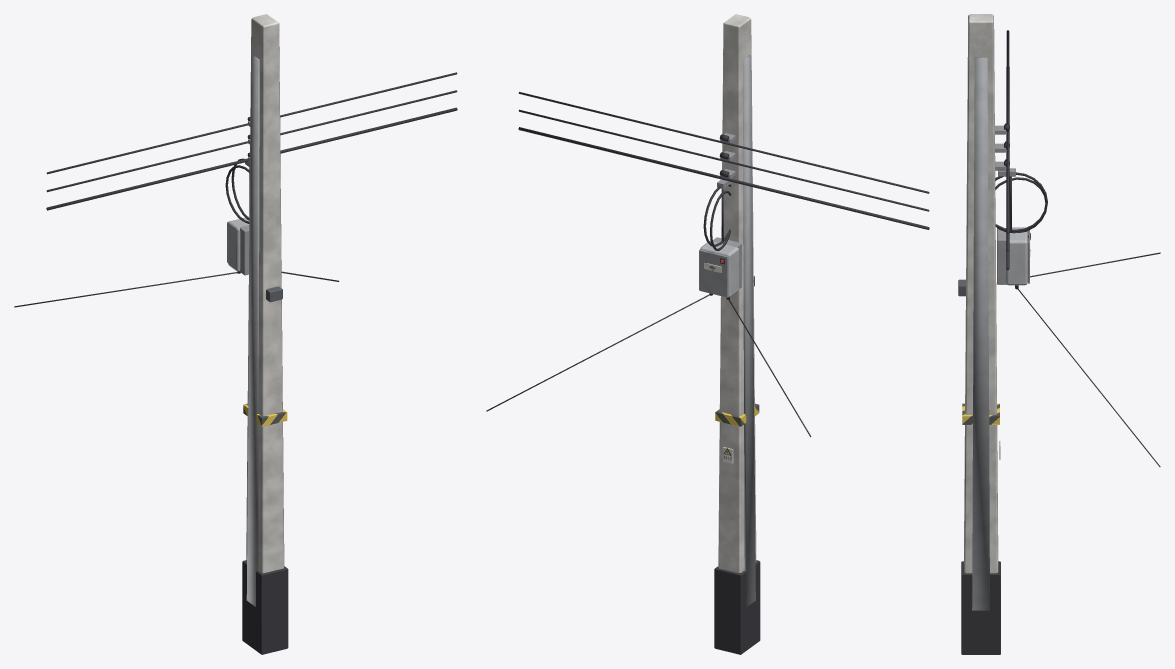
Rendered from Maquininha_TelecomPole.fbx.
The picture shows the model from 3 angles, left to right: view 1: azimuth 30°, elevation 25°; view 2: azimuth 150°, elevation 25°; view 3: azimuth 270°, elevation 25°; orthographic projection.
Parts seen in each view (by area): view 1: Maquininha_TelecomPole; view 2: Maquininha_TelecomPole; view 3: Maquininha_TelecomPole.
Boxes of the visible parts, x1,y1,x2,y2 form: Maquininha_TelecomPole: (14,14,457,654); Maquininha_TelecomPole: (486,14,929,654); Maquininha_TelecomPole: (958,14,1160,654).
Bounding box in the file's own units: 4.8 × 7 × 2.04.
1 material, 1 textured.
